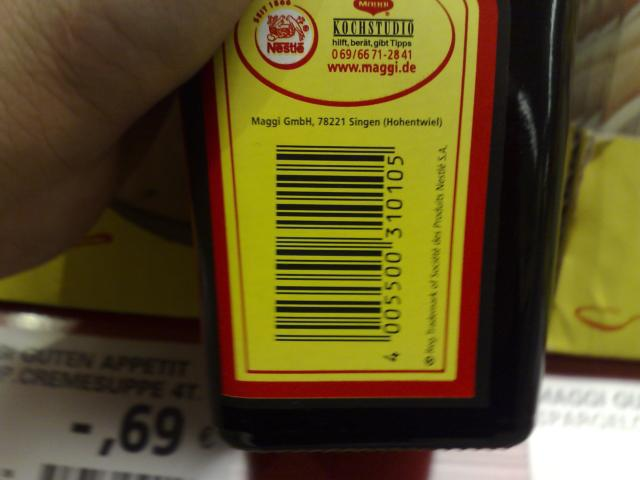Barkod: (272, 143, 383, 343)
